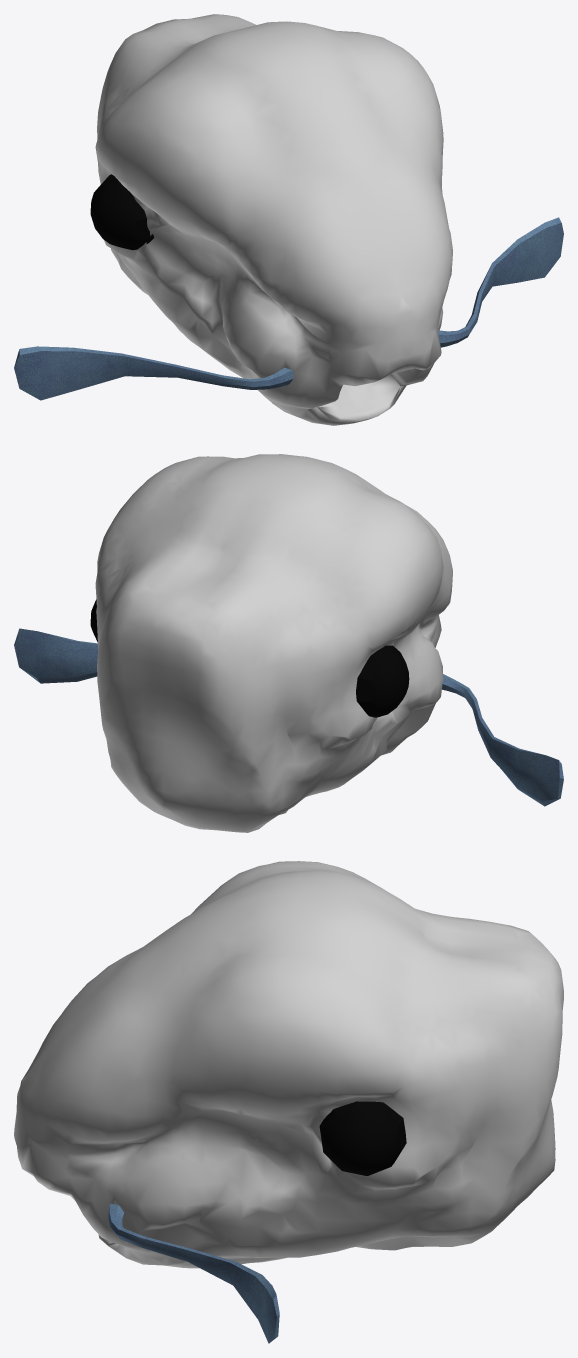
File: FishFace2.fbx
3 renders of one model, top to bottom at view 1: azimuth 30°, elevation 25°; view 2: azimuth 150°, elevation 25°; view 3: azimuth 270°, elevation 25°, orthographic. The views are drawn at different scales.
Visible parts, largest first — view 1: Cube.007, Sphere.003; view 2: Cube.007, Sphere.003; view 3: Cube.007, Sphere.003.
Part boxes in pixels (box(x1,y1,x2,y2)): Cube.007: box(95, 14, 452, 425); Sphere.003: box(14, 174, 563, 400); Cube.007: box(95, 454, 452, 832); Sphere.003: box(14, 599, 563, 806); Cube.007: box(14, 861, 563, 1268); Sphere.003: box(108, 1101, 406, 1343).
Bounding box in the file's own units: 675 × 391 × 529.
